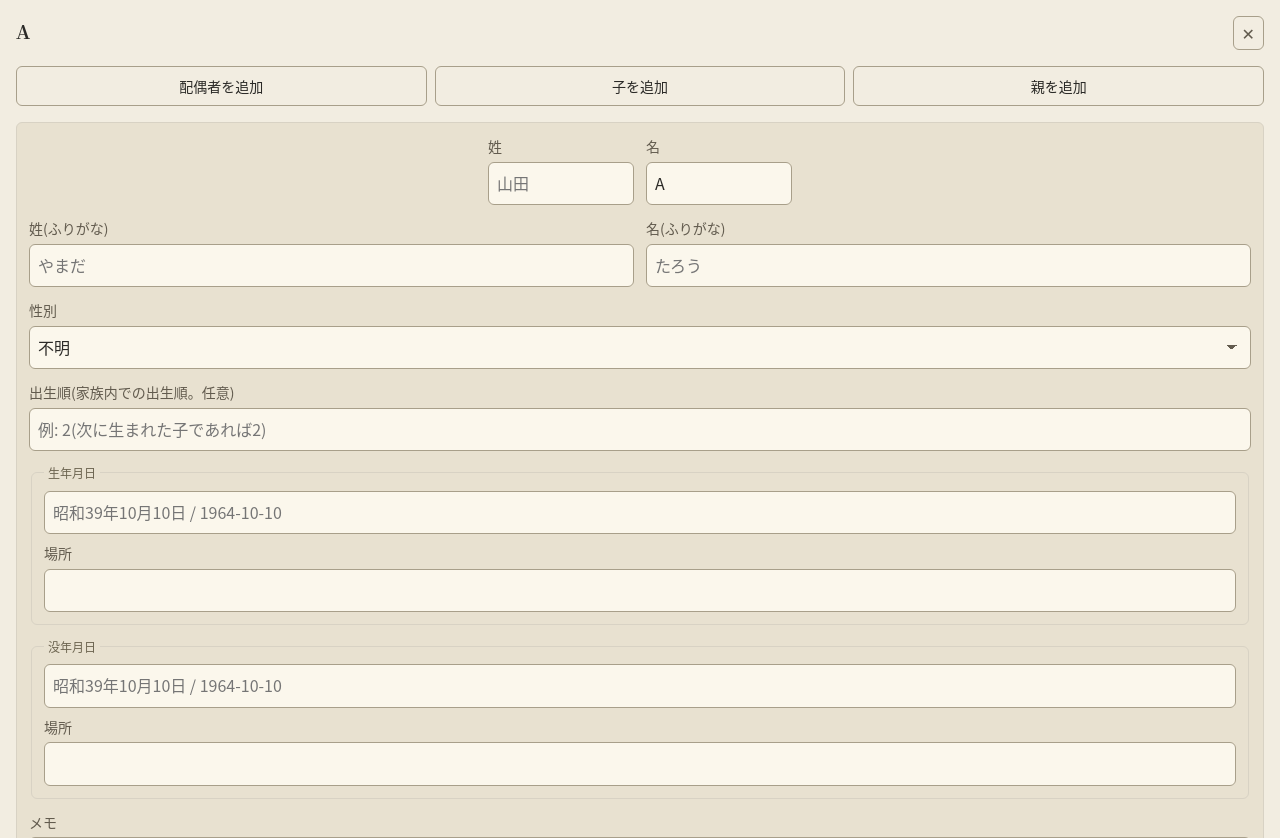
Test case: PersonPanel: 既存の人物を関係先に選ぶ › 氏名で絞り込める
Click the button "配偶者を追加" at (221, 86), box [16, 66, 427, 106]
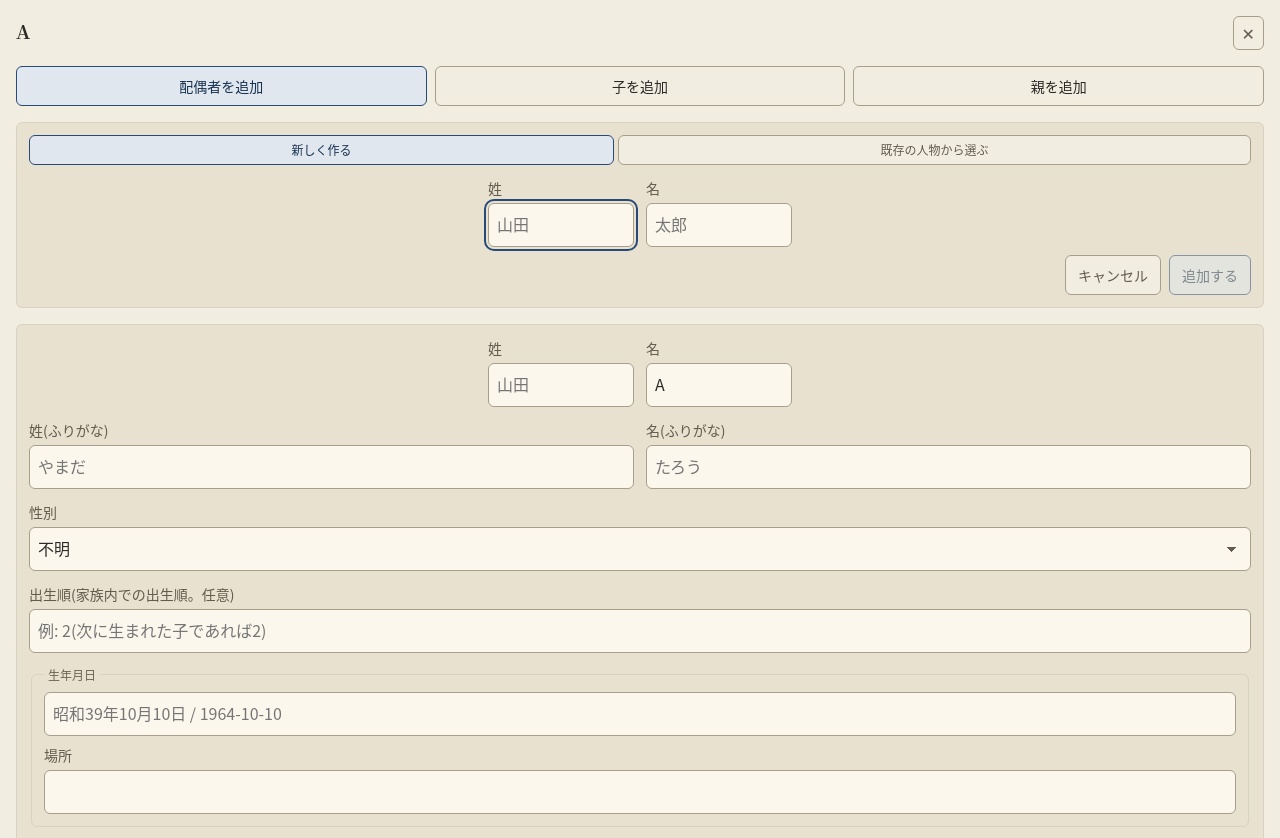
Click the button "既存の人物から選ぶ" at (934, 150), box [618, 135, 1251, 165]
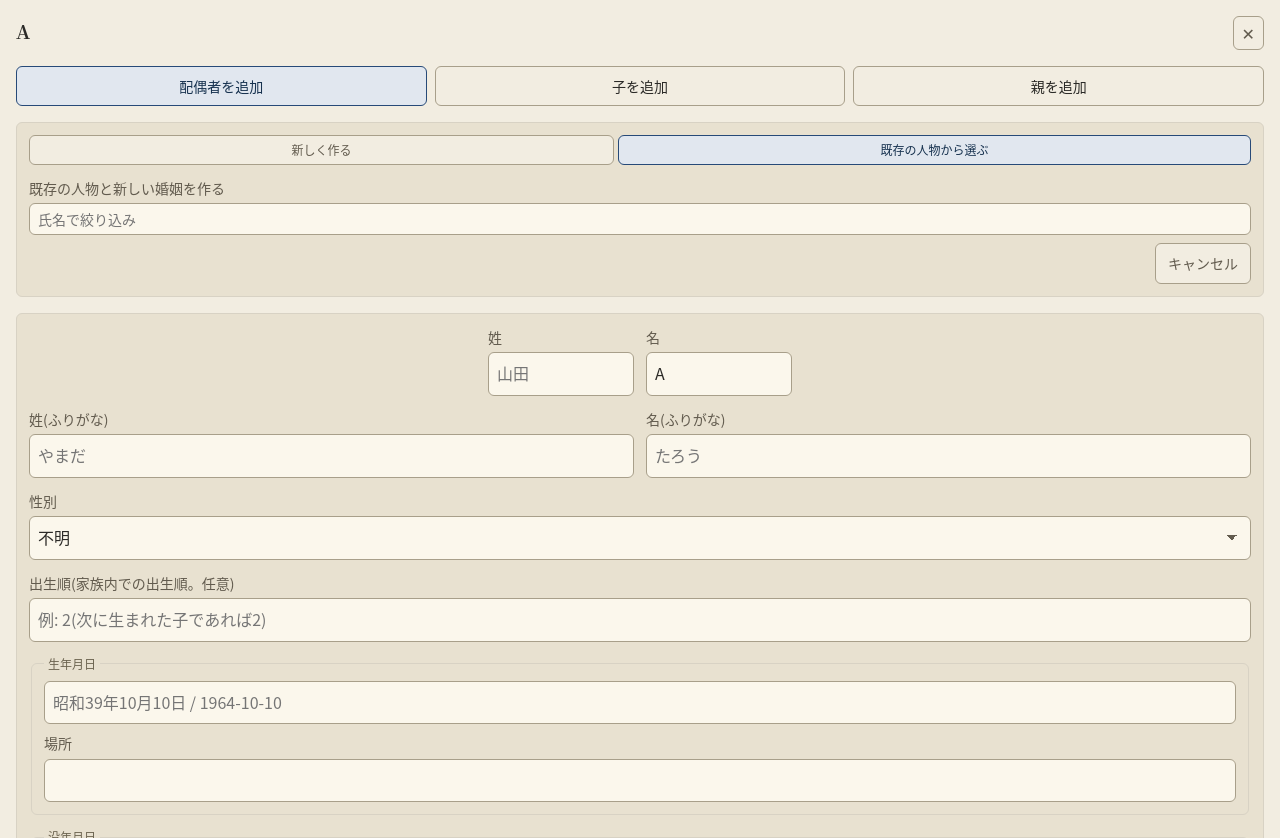
Type "Xa" into the dropdown labelled "既存の人物と新しい婚姻を作る" at (640, 219), box [29, 203, 1251, 235]
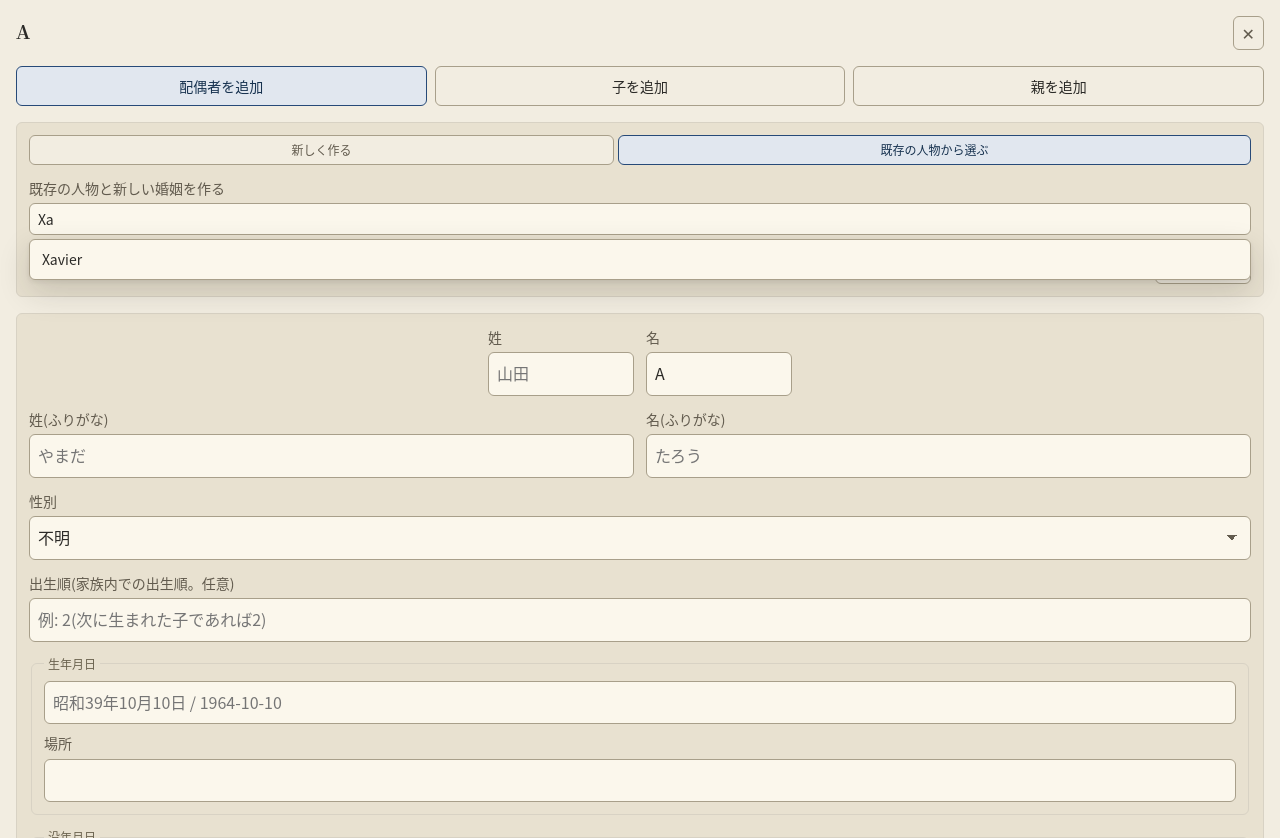
Check: the options read "Xavier", in this order, box [42, 249, 82, 269]
